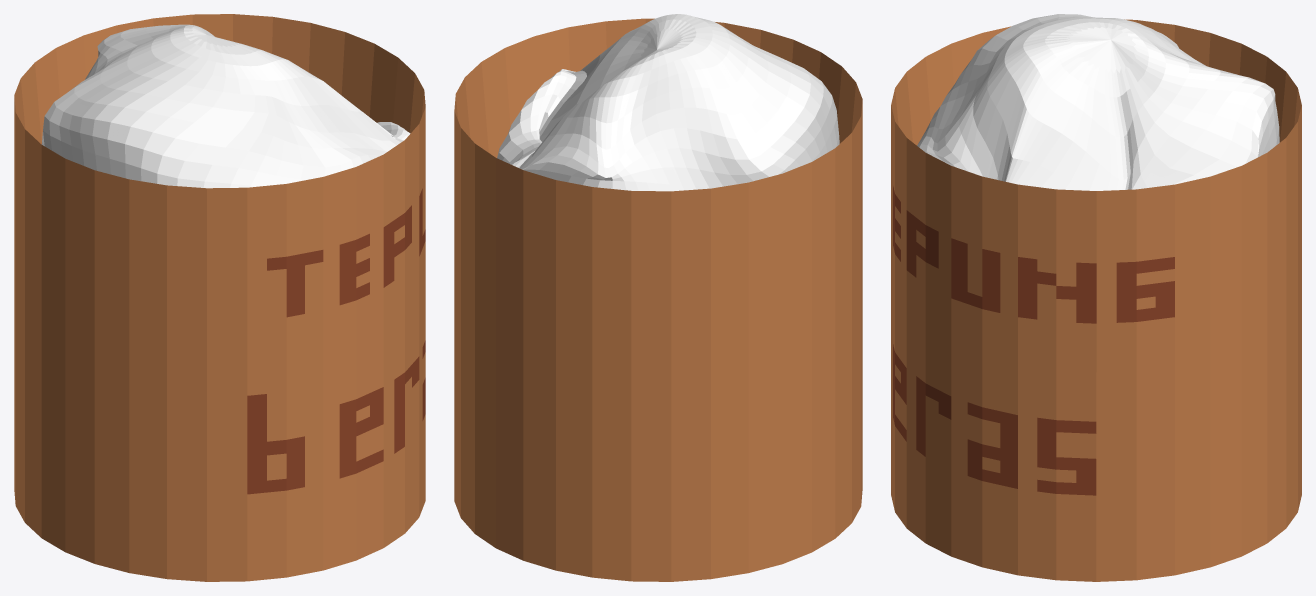
The model's file is Tepung Beras (1).fbx.
3 renders of one model, left to right at view 1: azimuth 30°, elevation 25°; view 2: azimuth 150°, elevation 25°; view 3: azimuth 270°, elevation 25°, orthographic.
Visible parts, largest first — view 1: Cylinder, Sphere; view 2: Cylinder, Sphere; view 3: Cylinder, Sphere.
Boxes of the visible parts, left/top/right/bottom form: Cylinder: left=14, top=14, right=425, bottom=581; Sphere: left=41, top=24, right=410, bottom=188; Cylinder: left=454, top=18, right=862, bottom=581; Sphere: left=497, top=14, right=839, bottom=191; Cylinder: left=891, top=19, right=1301, bottom=581; Sphere: left=917, top=14, right=1279, bottom=190.
Size of the model in its own units: 48.37 by 59.86 by 48.59.
